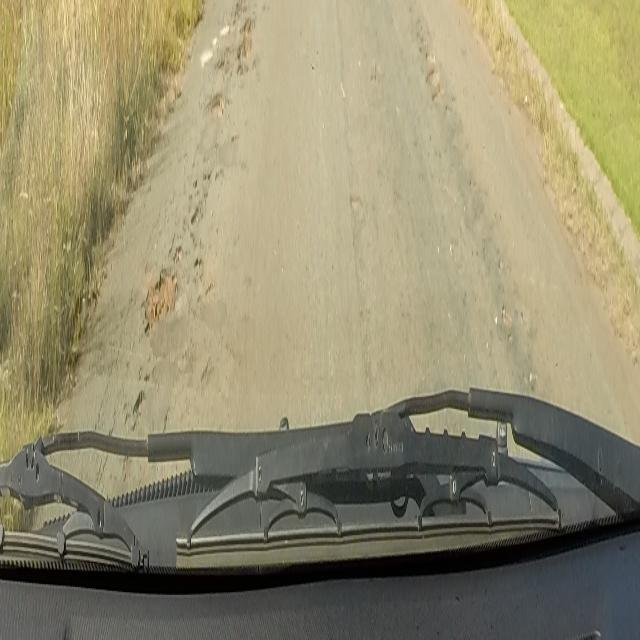pothole: (416, 23, 454, 112), (143, 266, 177, 338), (215, 14, 255, 75), (205, 84, 232, 121)
